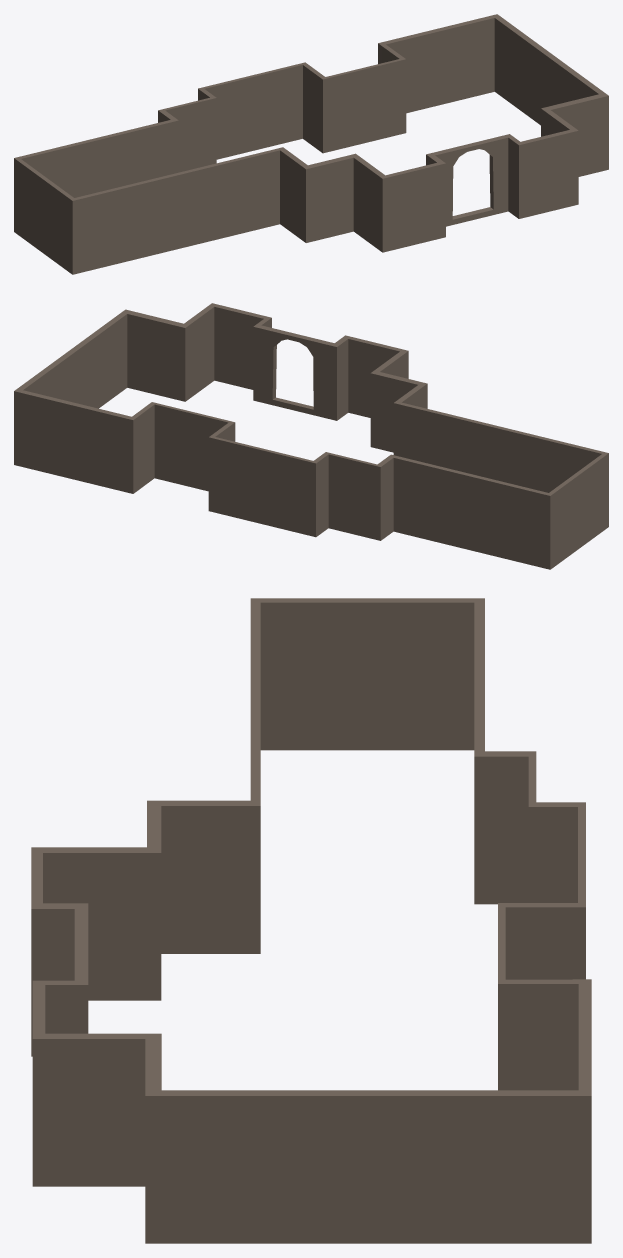
Rendered from MansionGroundFloor_FBX.fbx.
3 renders of one model, top to bottom at view 1: azimuth 30°, elevation 25°; view 2: azimuth 150°, elevation 25°; view 3: azimuth 270°, elevation 25°, orthographic. The views are drawn at different scales.
Visible parts, largest first — view 1: Floor_1; view 2: Floor_1; view 3: Floor_1.
Part boxes in pixels (left/top/right/bottom): Floor_1: left=14, top=14, right=608, bottom=274; Floor_1: left=14, top=303, right=608, bottom=569; Floor_1: left=31, top=598, right=591, bottom=1243.
Bounding box in the file's own units: 432 × 59.82 × 206.
